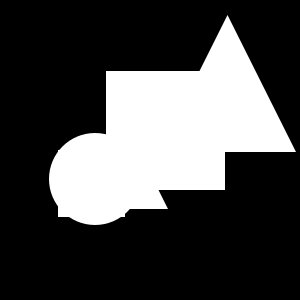circle: (106, 71, 225, 190), (58, 150, 125, 217)
rectangle: (49, 133, 141, 225)
triangle: (159, 15, 296, 152), (93, 134, 168, 209)
